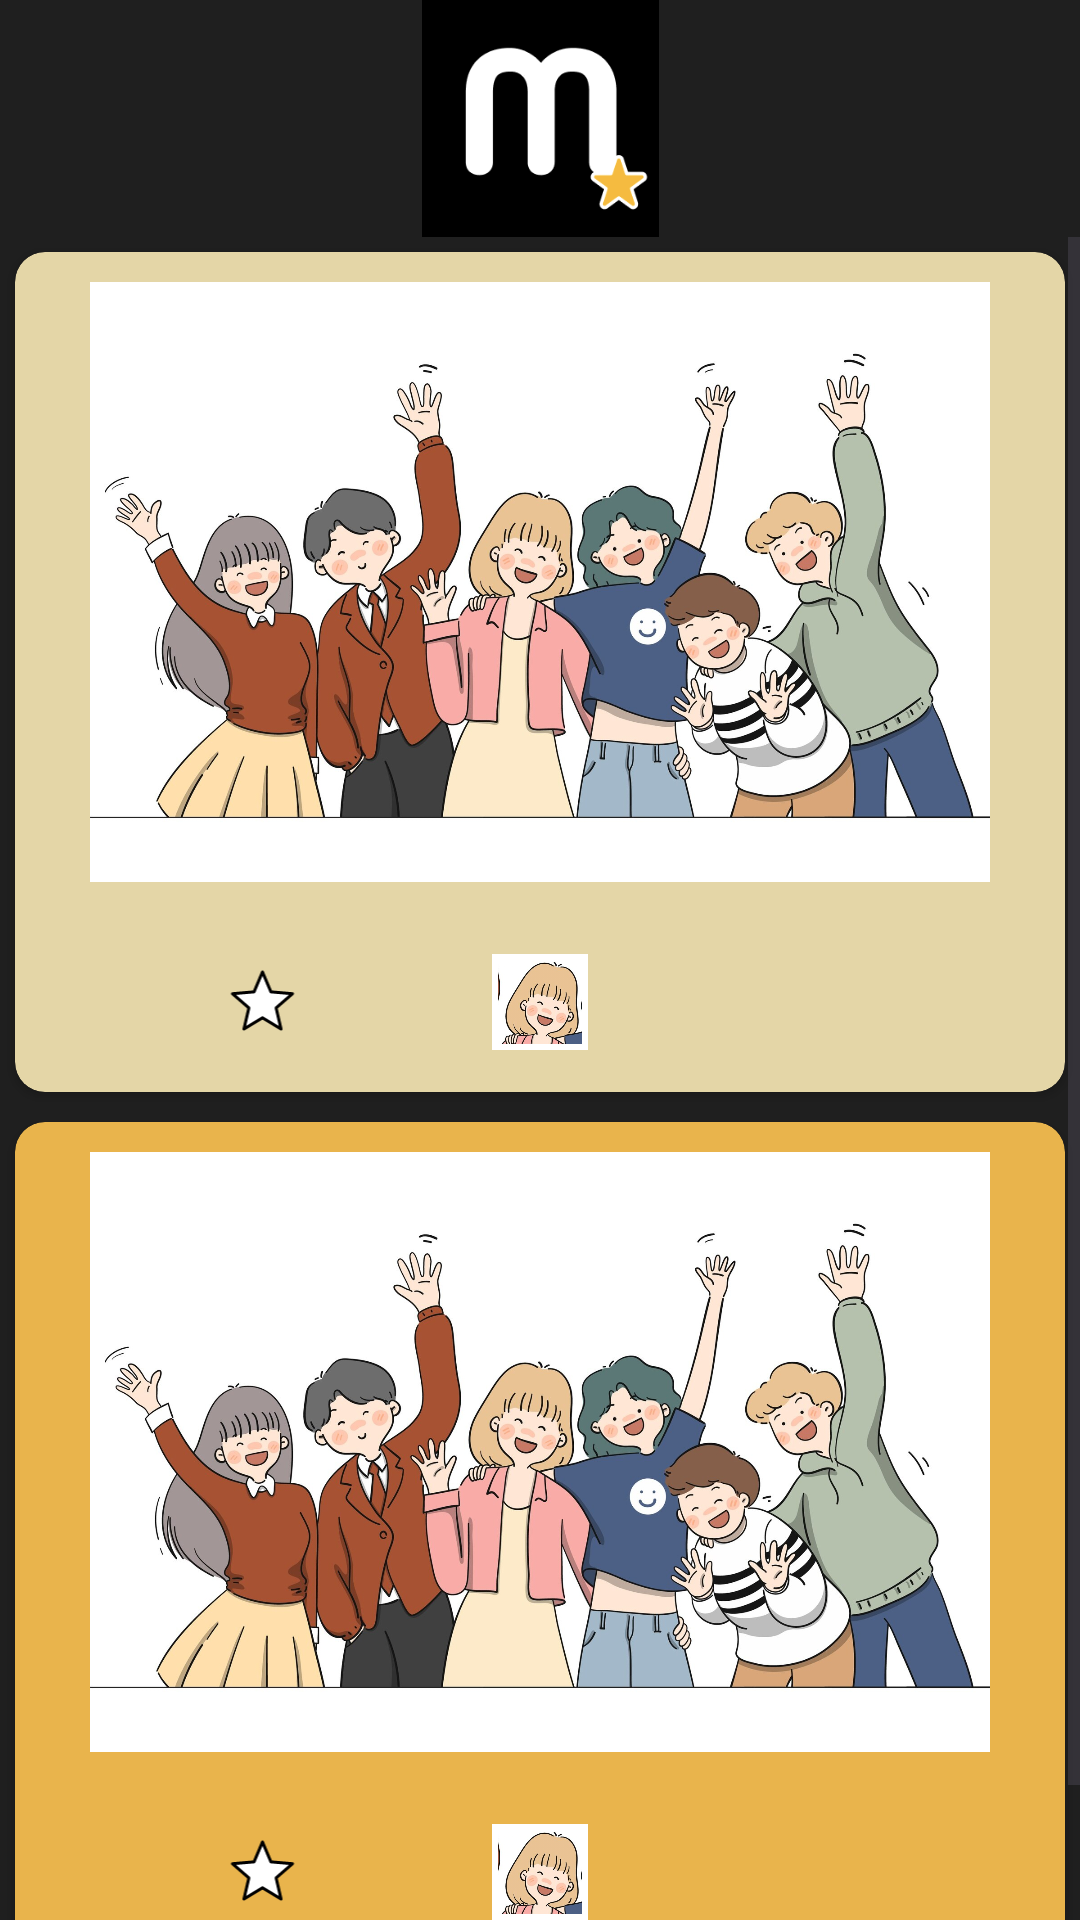

Screen size 1080*1920. Icon name, then its center in pixels as point (x, y):
sampleavatar: point (540, 1002), point (540, 1872)
star: point (262, 1000), point (262, 1870)
